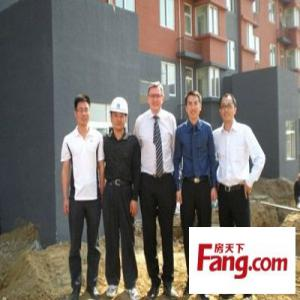none: (218, 90, 238, 128), (72, 93, 92, 129), (185, 88, 204, 124), (147, 81, 165, 113)
white: (110, 98, 131, 132)
